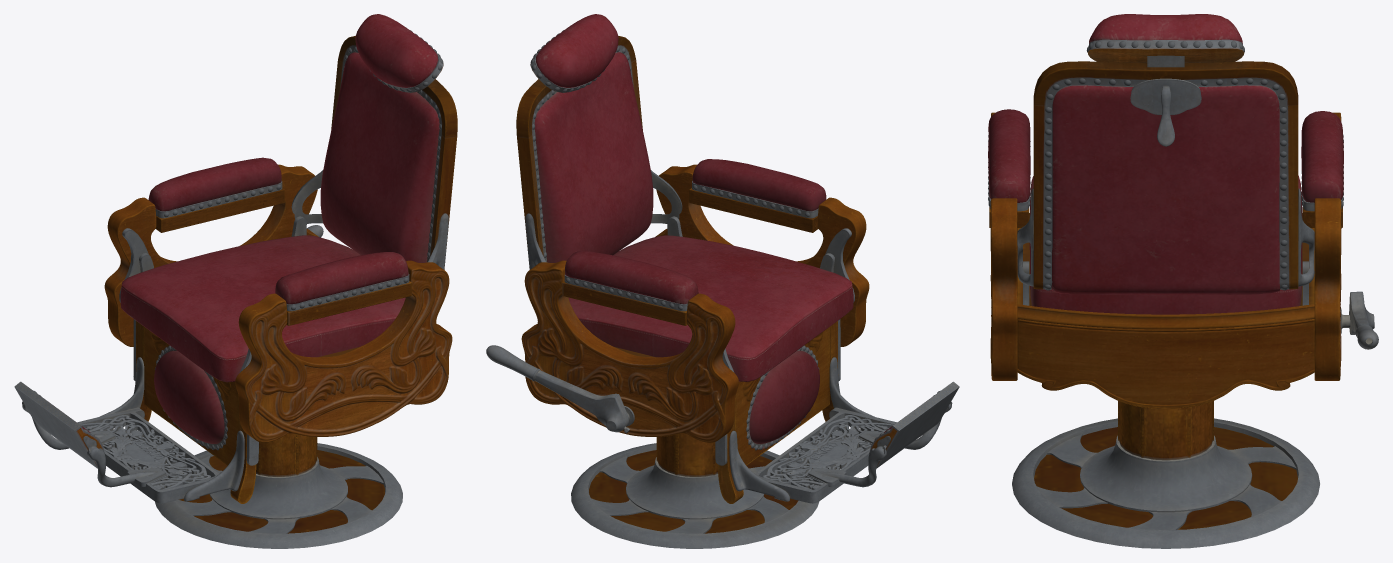
The model's file is SM_BarberChair01A.fbx.
3 renders of one model, left to right at view 1: azimuth 30°, elevation 25°; view 2: azimuth 150°, elevation 25°; view 3: azimuth 270°, elevation 25°, orthographic. The views are drawn at different scales.
Visible parts, largest first — view 1: SM_BarberChair01A; view 2: SM_BarberChair01A; view 3: SM_BarberChair01A.
Boxes of the visible parts, box(x1,y1,x2,y2) form: SM_BarberChair01A: box(14, 14, 457, 548); SM_BarberChair01A: box(486, 14, 959, 548); SM_BarberChair01A: box(988, 14, 1378, 548).
Bounding box in the file's own units: 113 × 81 × 123.
Materials: 1 (1 with a texture image).
